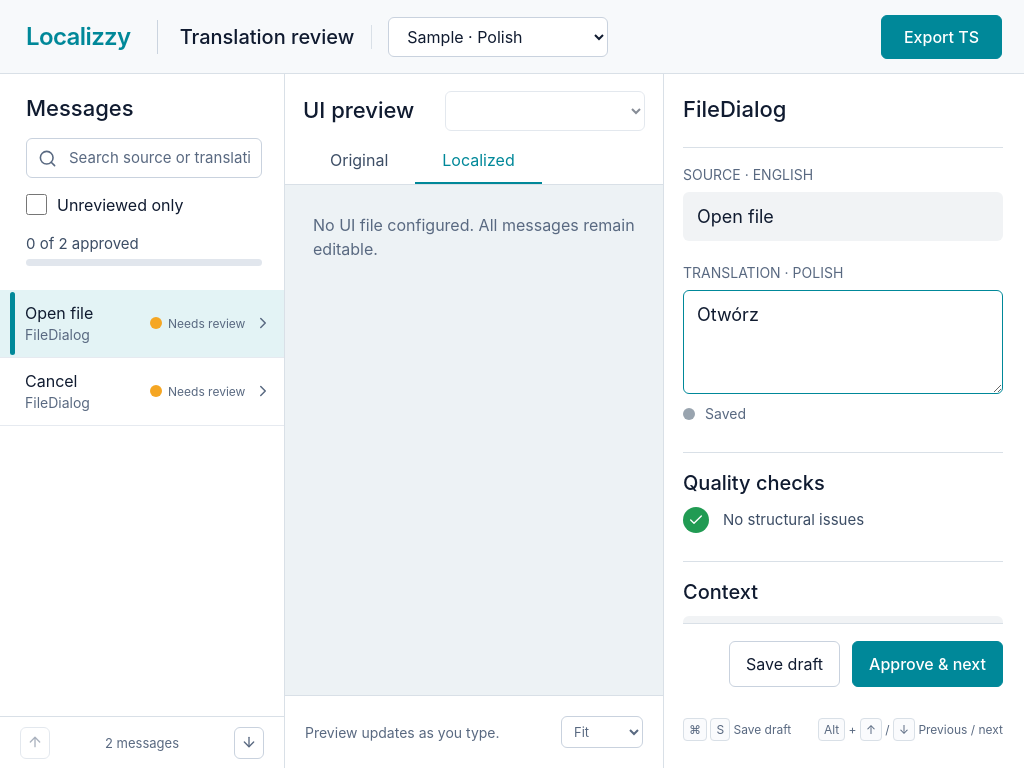
Test: draft remains when navigation is cancelled and save sends its revision
This screenshot has width=1024, height=768.
Replace the text in the text box named "Translation · Polish" with "Otwórz plik" at (843,342), box [683,290,1003,394]
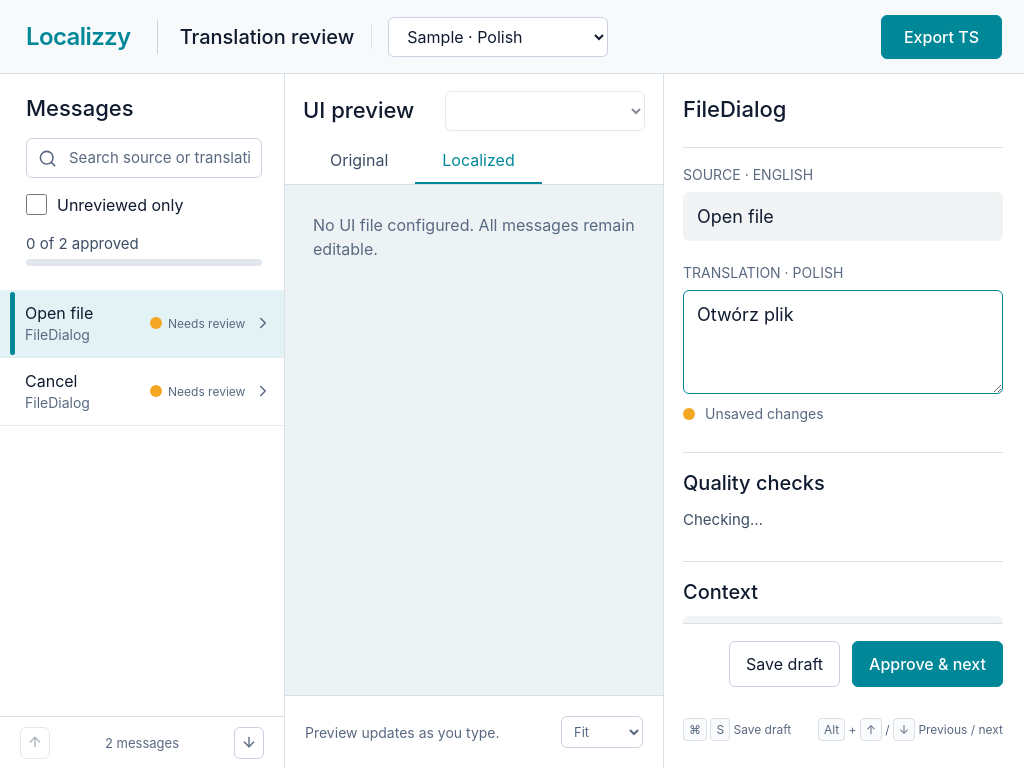
Click the button named "Cancel, FileDialog" at (51,381), box [0,358,284,426]
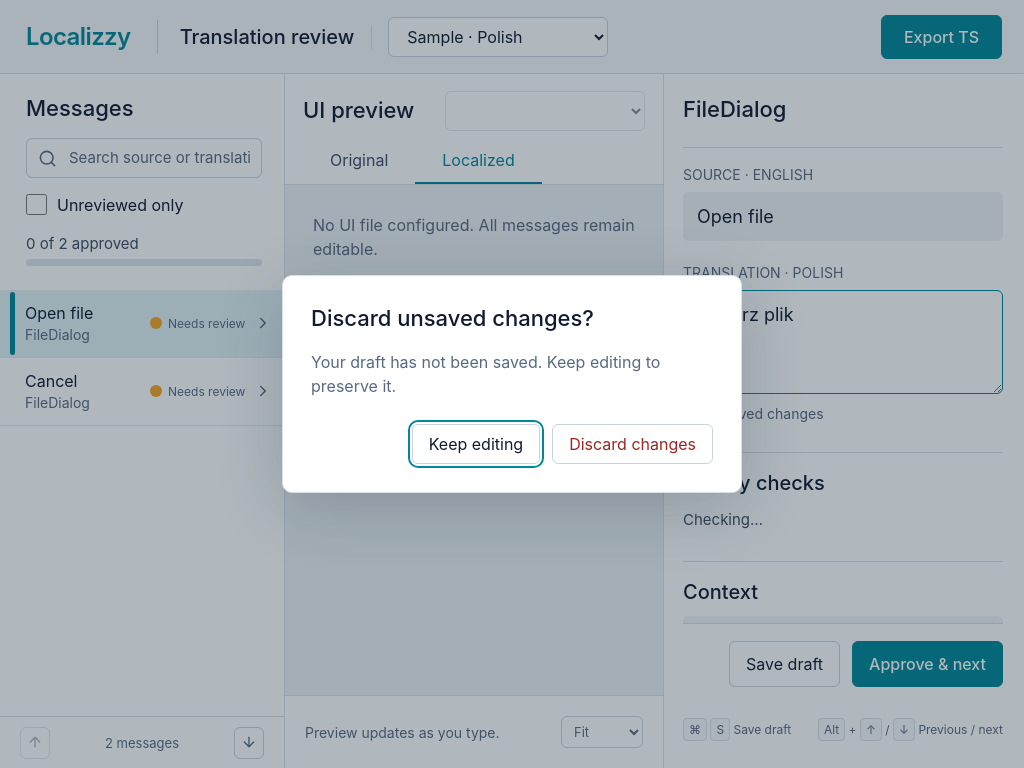
Check: the dialog is shown, box [282,275,742,493]
Click the button "Keep editing" at (476,444), box [412,424,540,464]
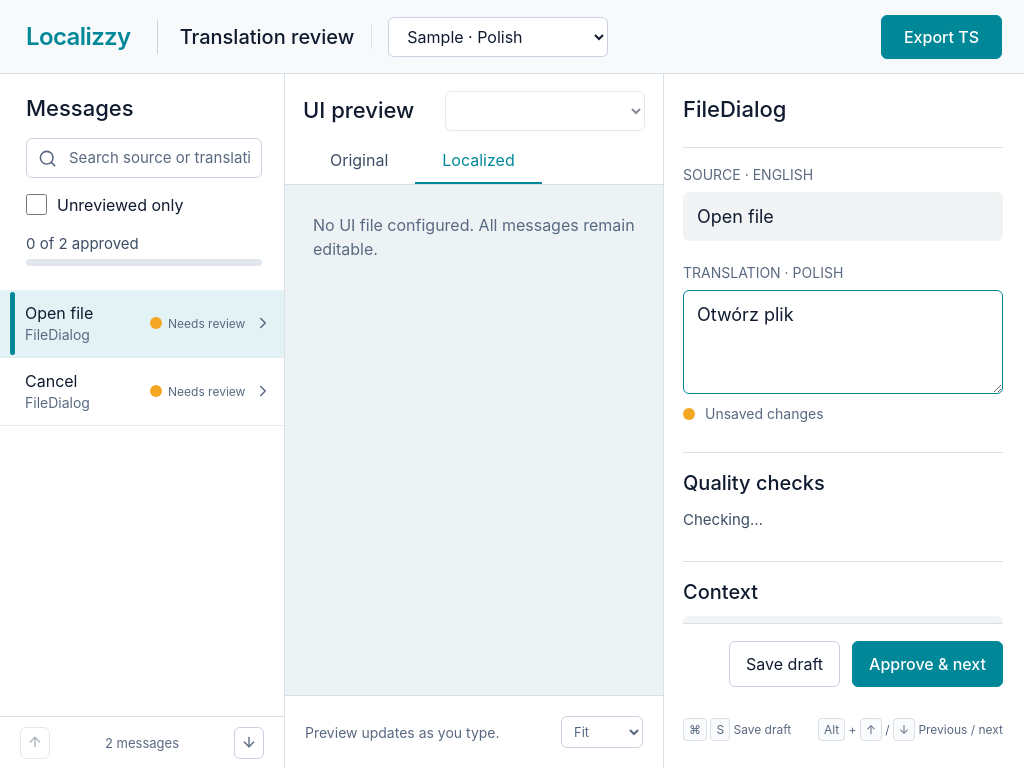
Click the button "Save draft" at (785,664), box [729,641,840,687]
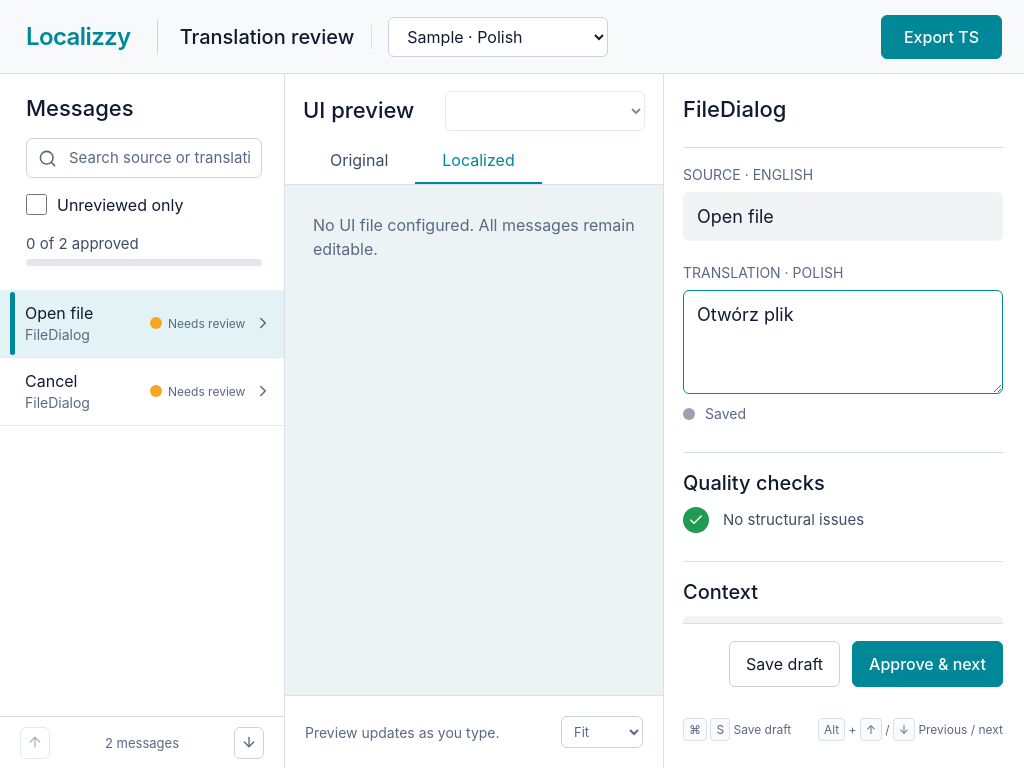
Check: the message reads "Saved", box [705,405,746,422]
